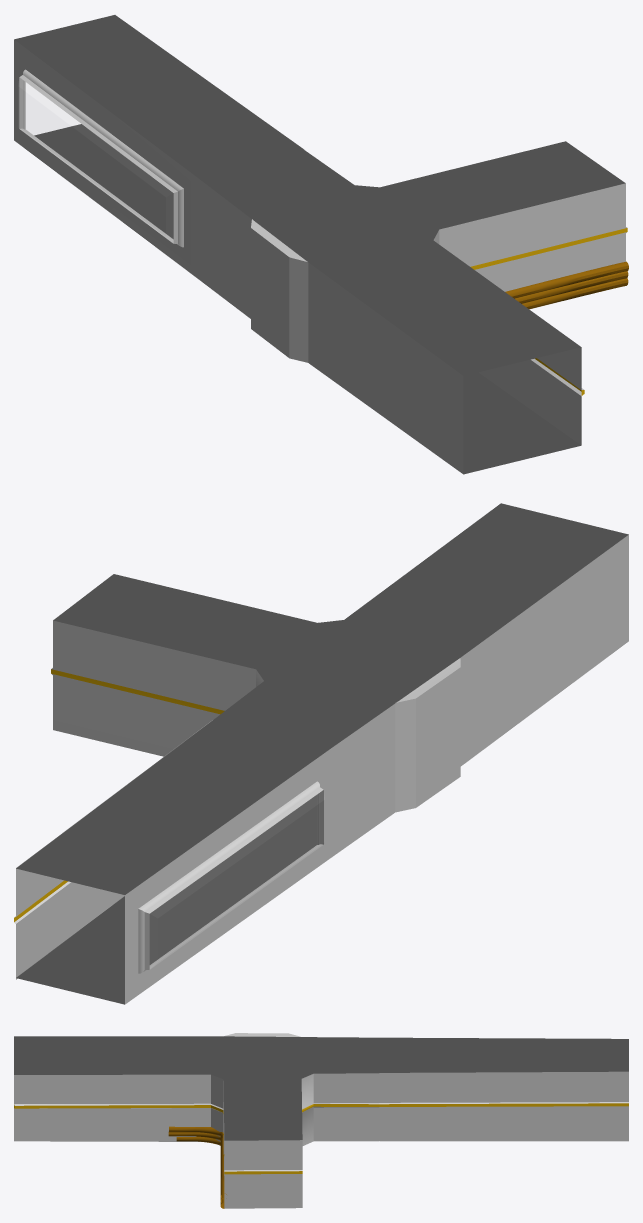
File: SpaceShipLOWTEXTURE2.glb
The picture shows the model from 3 angles, top to bottom: view 1: azimuth 30°, elevation 25°; view 2: azimuth 150°, elevation 25°; view 3: azimuth 270°, elevation 25°; orthographic projection. The views are drawn at different scales.
Visible parts, largest first — view 1: SHIP; view 2: SHIP; view 3: SHIP.
Part boxes in pixels (x1,y1,x2,y2): SHIP: (14,15,628,474); SHIP: (14,503,628,1004); SHIP: (14,1033,628,1208).
Size of the model in its own units: 7.4 by 2.21 by 17.78.
